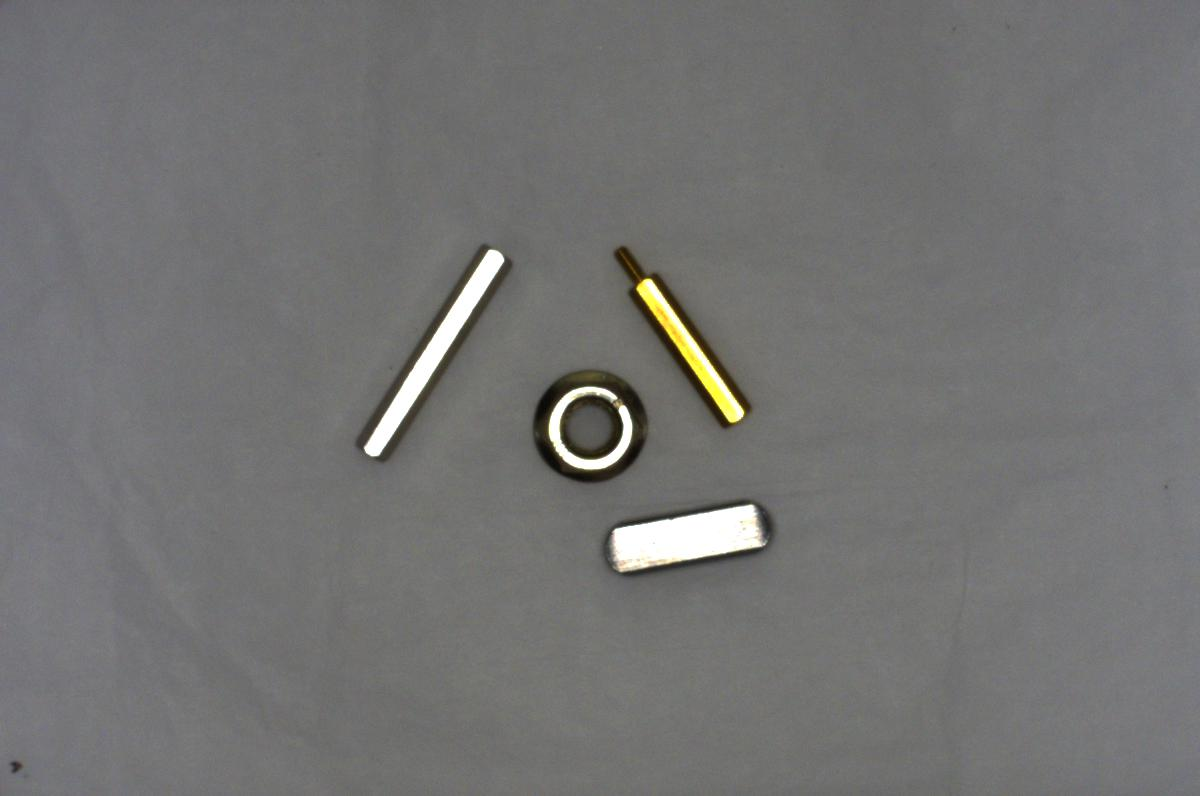Double hexagonal column: (339, 238, 505, 467)
Flange nut: (520, 363, 653, 489)
Hexagon pillar: (611, 234, 754, 432)
Keybar: (598, 494, 779, 579)
